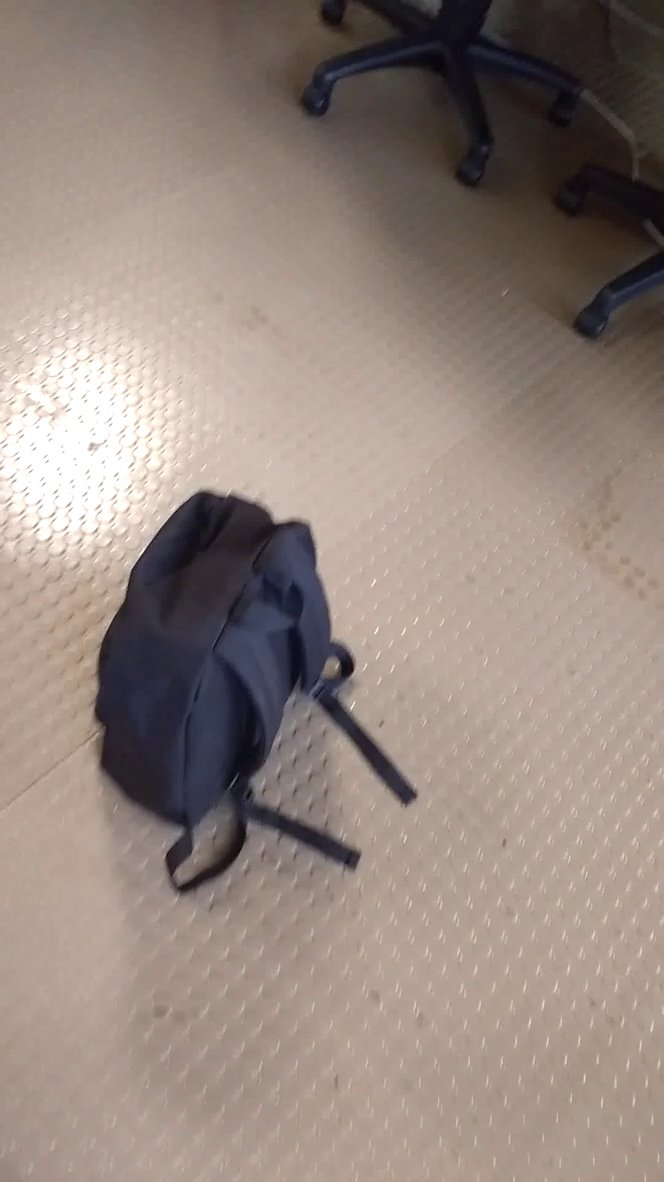bag: (87, 483, 423, 907)
